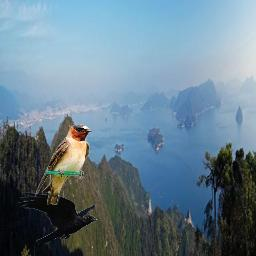Crow: (18, 191, 98, 244)
Swallow: (35, 124, 92, 205)
